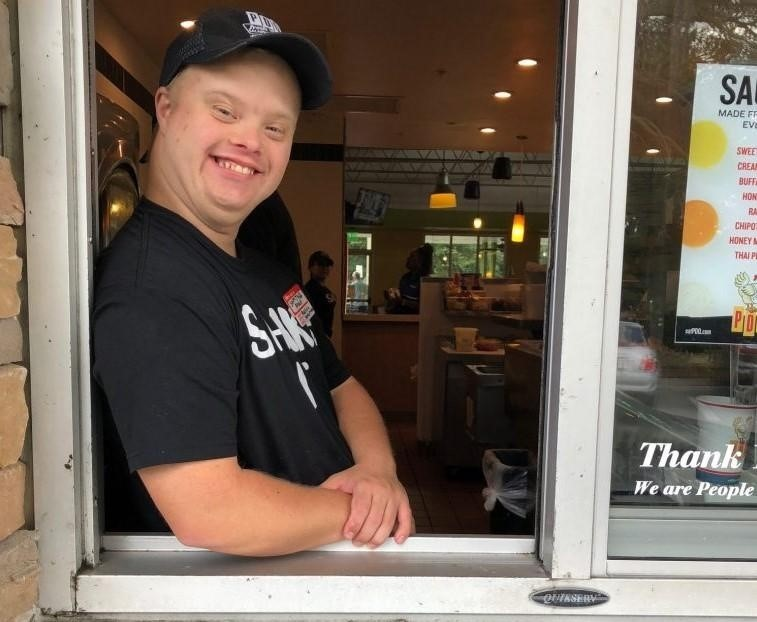face_no_mask: (157, 29, 301, 226)
